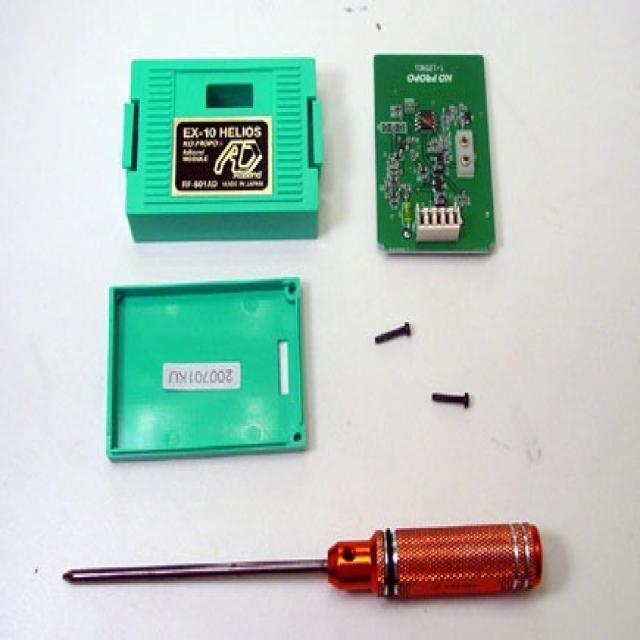screwdriver: (50, 512, 556, 636)
